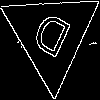D: (26, 10, 73, 67)
